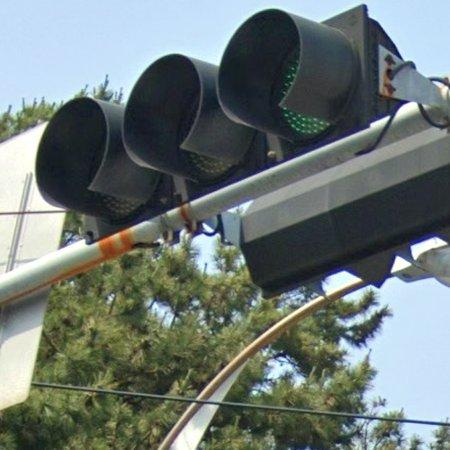traffic lights: (34, 8, 407, 244)
